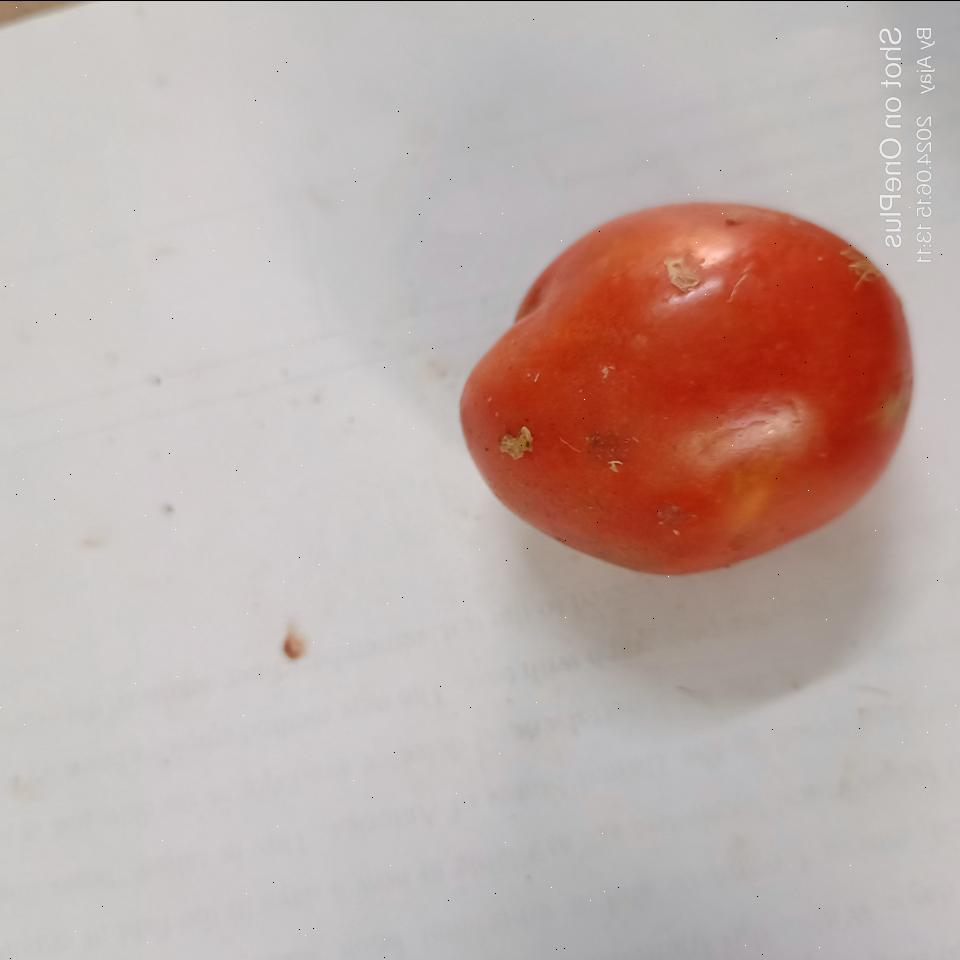Bacterial_Spot: (496, 423, 544, 469)
